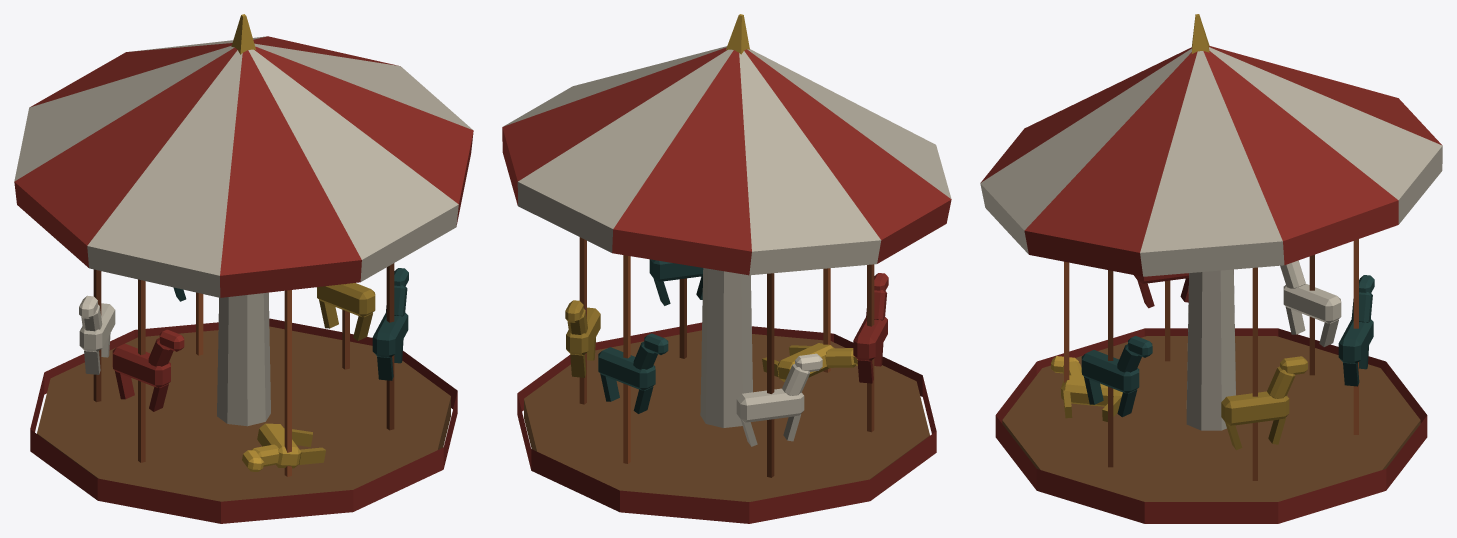
The model's file is parque_carrossel.glb.
3 views of the same model, side by side, from view 1: azimuth 30°, elevation 25°; view 2: azimuth 150°, elevation 25°; view 3: azimuth 270°, elevation 25° (orthographic).
Parts seen in each view (by area): view 1: parque_carrossel.001; view 2: parque_carrossel.001; view 3: parque_carrossel.001.
Boxes of the visible parts, x1,y1,x2,y2 form: parque_carrossel.001: (14,14,473,523); parque_carrossel.001: (502,14,951,523); parque_carrossel.001: (980,14,1442,523).
Size of the model in its own units: 3.27 by 3.45 by 3.43.
